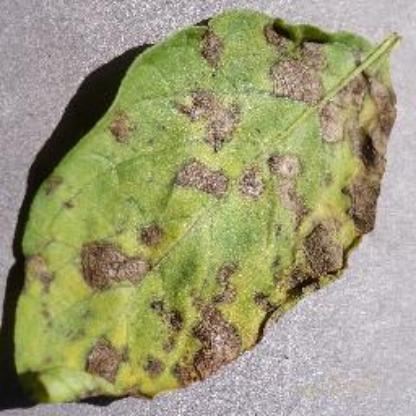Early-Blight: (14, 10, 406, 406)
